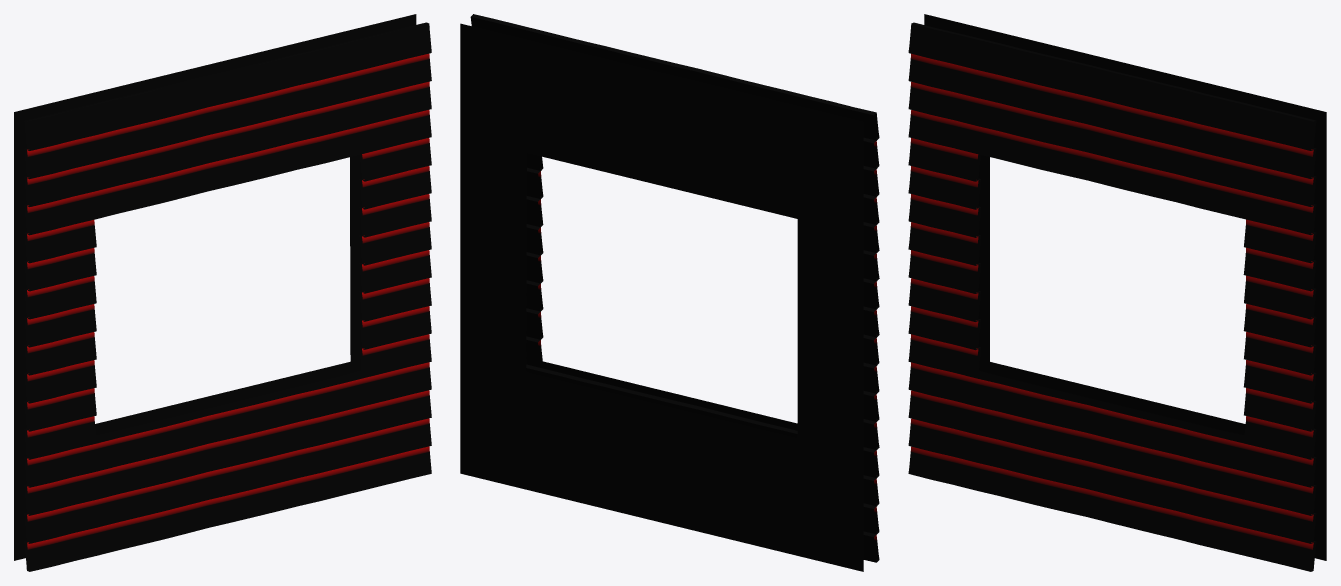
Rendered from SM_House_ExtWall_Window_A2.fbx.
3 views of the same model, side by side, from view 1: azimuth 30°, elevation 25°; view 2: azimuth 150°, elevation 25°; view 3: azimuth 330°, elevation 25° (orthographic).
Visible parts, largest first — view 1: SM_House_ExtWall_Window_A2; view 2: SM_House_ExtWall_Window_A2; view 3: SM_House_ExtWall_Window_A2.
Boxes of the visible parts, x1,y1,x2,y2 form: SM_House_ExtWall_Window_A2: (14, 14, 431, 571); SM_House_ExtWall_Window_A2: (460, 14, 879, 571); SM_House_ExtWall_Window_A2: (908, 14, 1326, 571).
Size of the model in its own units: 300 by 20.36 by 321.
